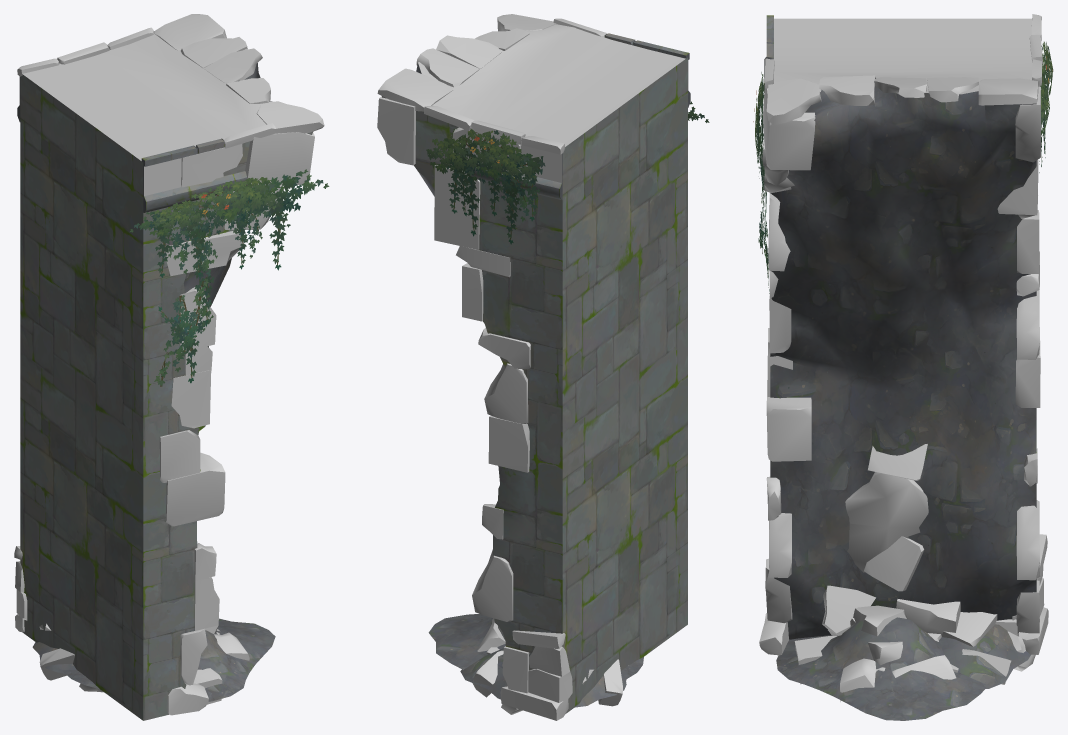
Rendered from Area_MdBuild_SdWall01_06_Group.fbx.
3 views of the same model, side by side, from view 1: azimuth 30°, elevation 25°; view 2: azimuth 150°, elevation 25°; view 3: azimuth 270°, elevation 25° (orthographic). The views are drawn at different scales.
Visible parts, largest first — view 1: Area_MdBuild_SdWall01_06_Lod0, Stages_LYLvy02_Vo (1), Area_MdBuild_SdRuins07_08_Vo, Stages_LYLvy09_Vo (1), Area_MdBuild_SdRuins07_Vo; view 2: Area_MdBuild_SdWall01_06_Lod0, Stages_LYLvy08_Vo (1), Area_MdBuild_SdRuins07_08_Vo, Area_MdBuild_SdRuins07_Vo; view 3: Area_MdBuild_SdWall01_06_Lod0, Area_MdBuild_SdRuins07_08_Vo, Area_MdBuild_SdRuins07_Vo, Stages_LYLvy08_Vo (1), Stages_LYLvy02_Vo (1).
Part boxes in pixels (left/top/right/bottom): Area_MdBuild_SdWall01_06_Lod0: left=14, top=14, right=324, bottom=720; Stages_LYLvy02_Vo (1): left=129, top=169, right=329, bottom=326; Area_MdBuild_SdRuins07_08_Vo: left=62, top=618, right=275, bottom=704; Stages_LYLvy09_Vo (1): left=154, top=280, right=213, bottom=386; Area_MdBuild_SdRuins07_Vo: left=32, top=642, right=103, bottom=692; Area_MdBuild_SdWall01_06_Lod0: left=377, top=14, right=690, bottom=720; Stages_LYLvy08_Vo (1): left=426, top=128, right=545, bottom=244; Area_MdBuild_SdRuins07_08_Vo: left=428, top=614, right=643, bottom=680; Area_MdBuild_SdRuins07_Vo: left=460, top=647, right=628, bottom=714; Area_MdBuild_SdWall01_06_Lod0: left=759, top=14, right=1048, bottom=671; Area_MdBuild_SdRuins07_08_Vo: left=776, top=617, right=988, bottom=720; Area_MdBuild_SdRuins07_Vo: left=939, top=612, right=1035, bottom=688; Stages_LYLvy08_Vo (1): left=1039, top=41, right=1053, bottom=172; Stages_LYLvy02_Vo (1): left=753, top=72, right=765, bottom=234.
Size of the model in its own units: 8.8 by 21.44 by 9.01.
